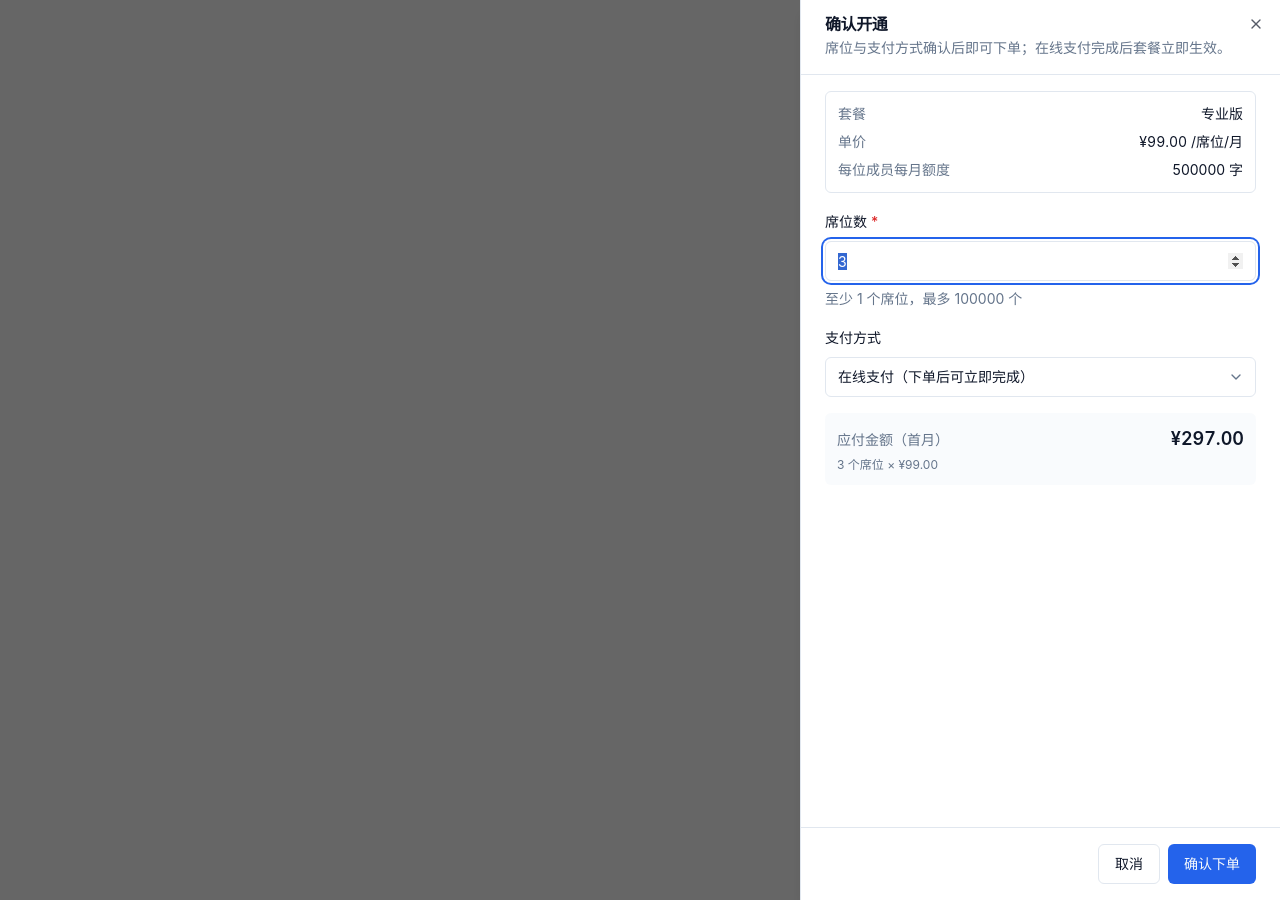
OrderDrawer › 下单失败点重试复用同一把幂等键，改席位才换新键（P1-12）
Later steps or results of the test are not shown.
Click the button "确认下单".
click(1212, 864)  # box [1168, 844, 1256, 884]
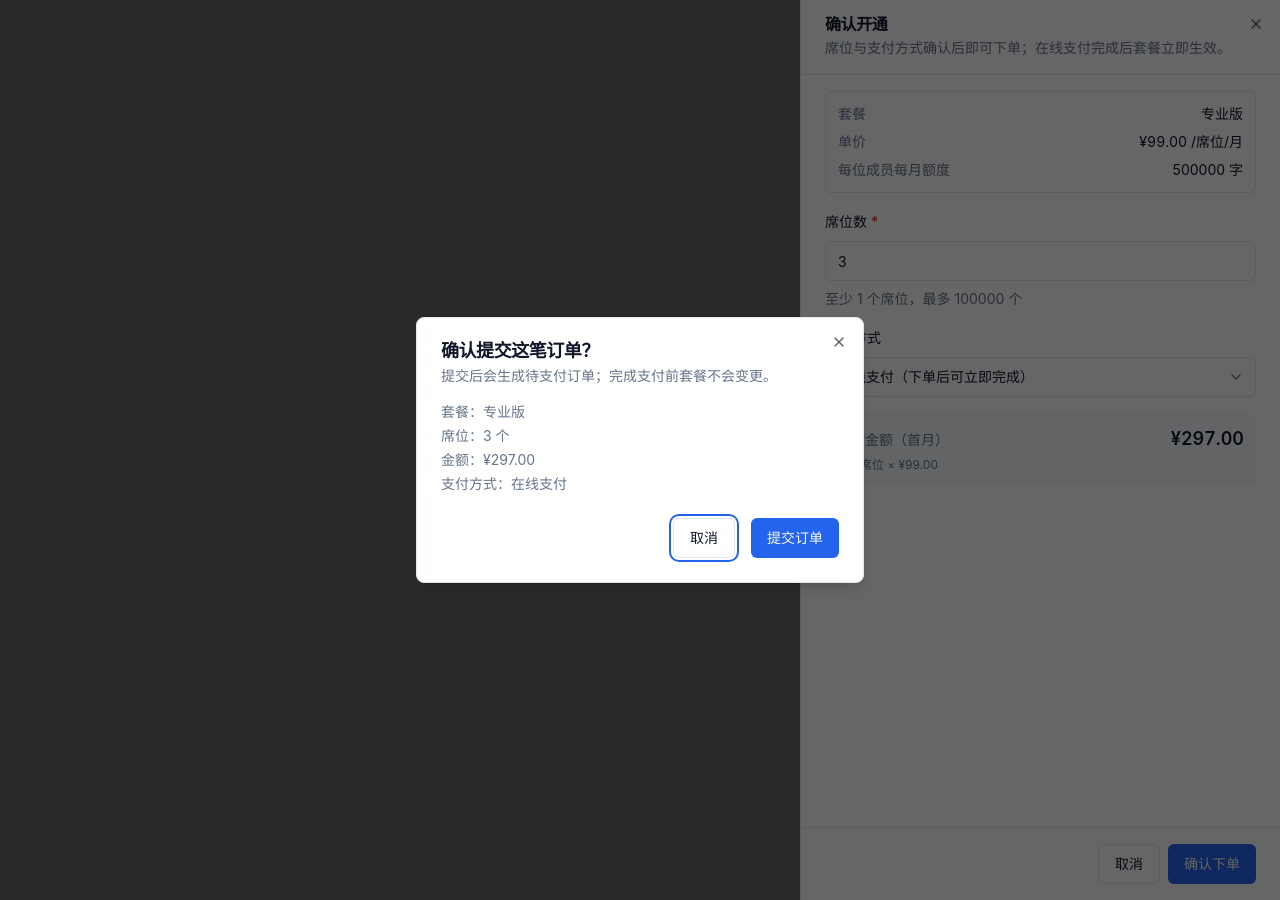
Click the button "提交订单".
click(795, 538)  # box [751, 518, 839, 558]
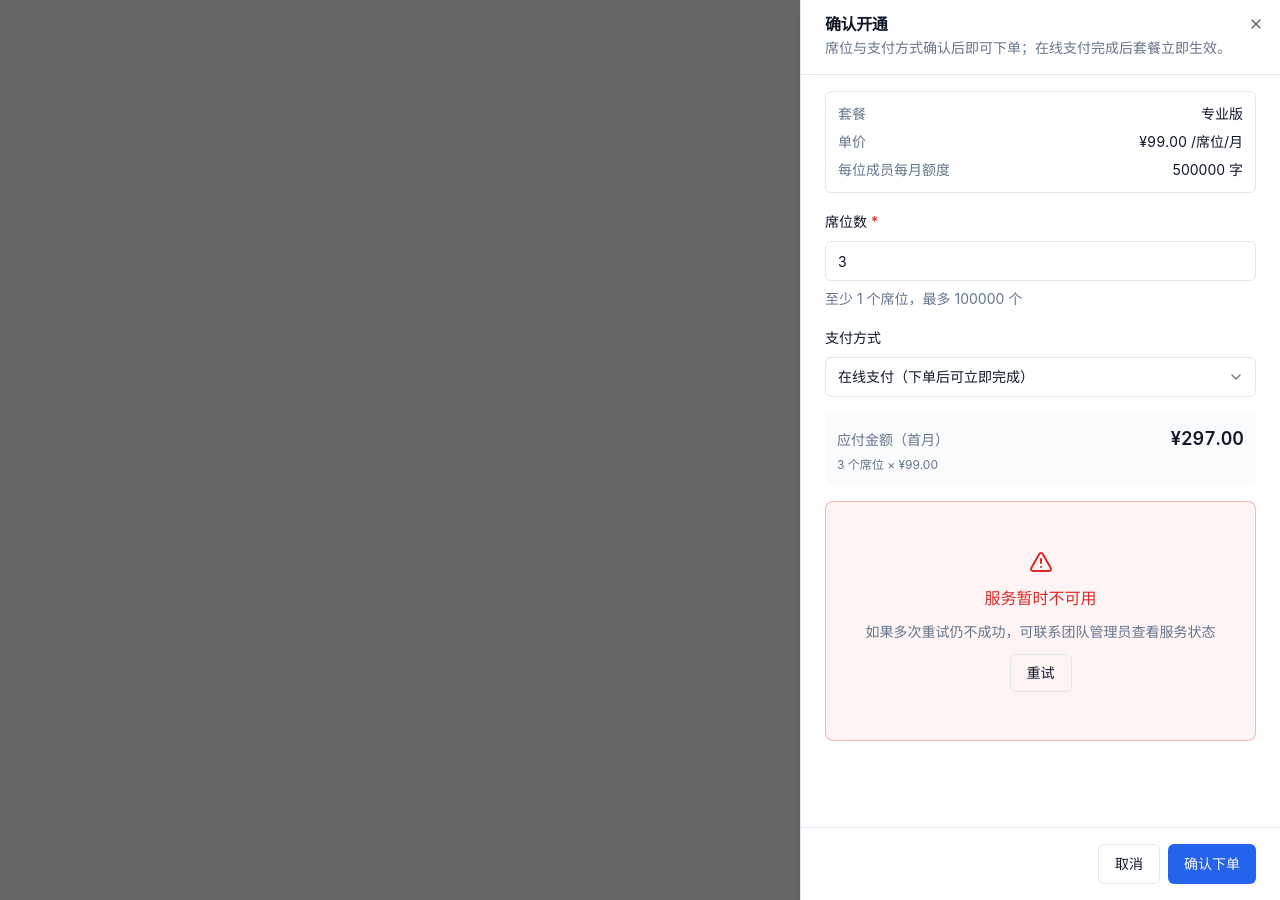
Expected: the text "重试" is shown, [866, 622, 1216, 642]
